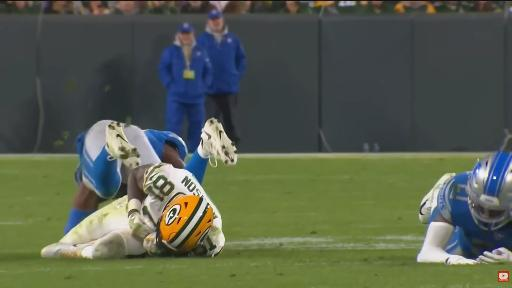Helmet: (467, 151, 511, 230), (157, 195, 213, 254)
Jersey: (142, 163, 224, 255), (430, 172, 511, 258), (144, 130, 188, 161)
Player: (42, 119, 237, 258), (65, 120, 187, 234), (417, 151, 511, 264)
